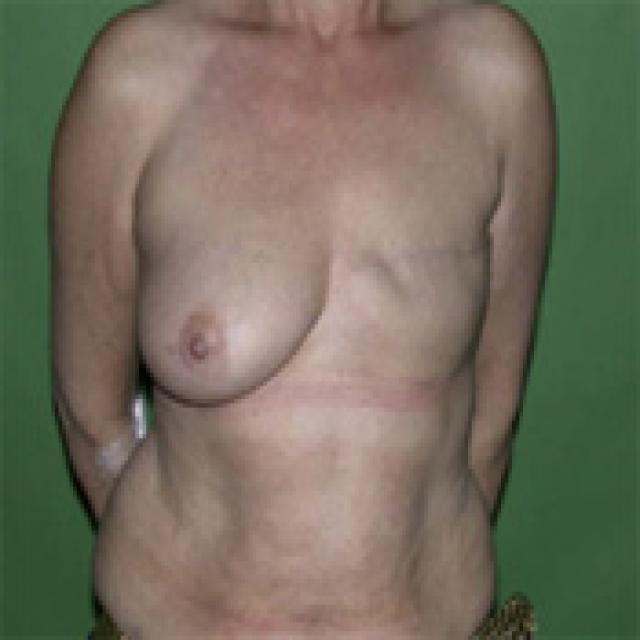Seno herido: (336, 165, 502, 400)
Seno ileso: (128, 166, 333, 430)
